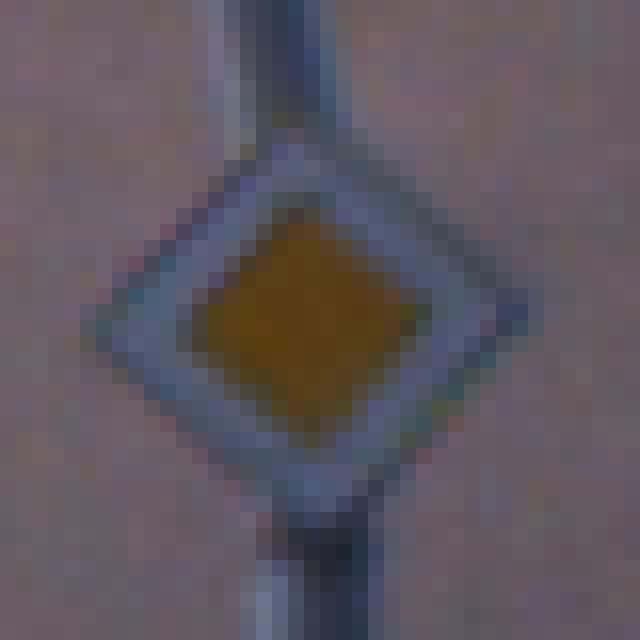Main Road: (97, 81, 561, 561)
